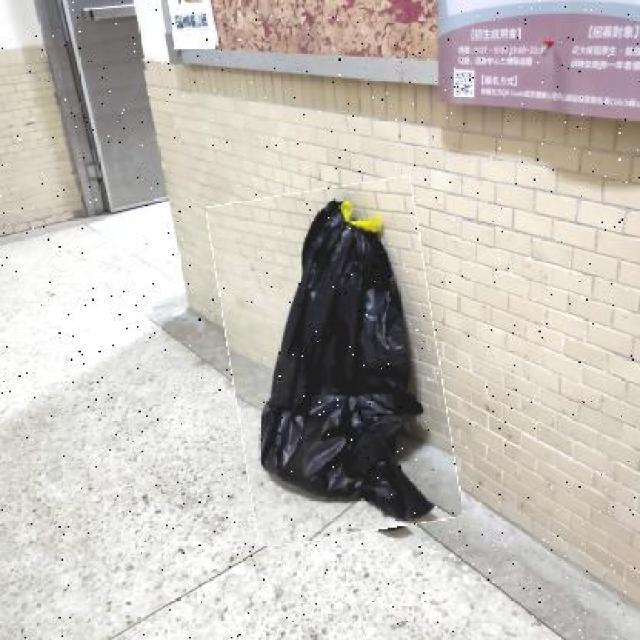waste: (219, 183, 452, 542)
